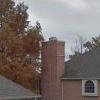Chimney: (35, 34, 69, 100)
